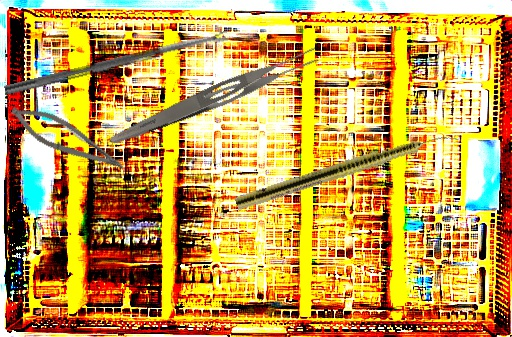Dressing Forceps: (105, 40, 325, 157)
Handpiece: (233, 124, 462, 214)
Micro Scissor: (4, 97, 133, 179)
Surgical Spoon: (4, 30, 230, 97)
